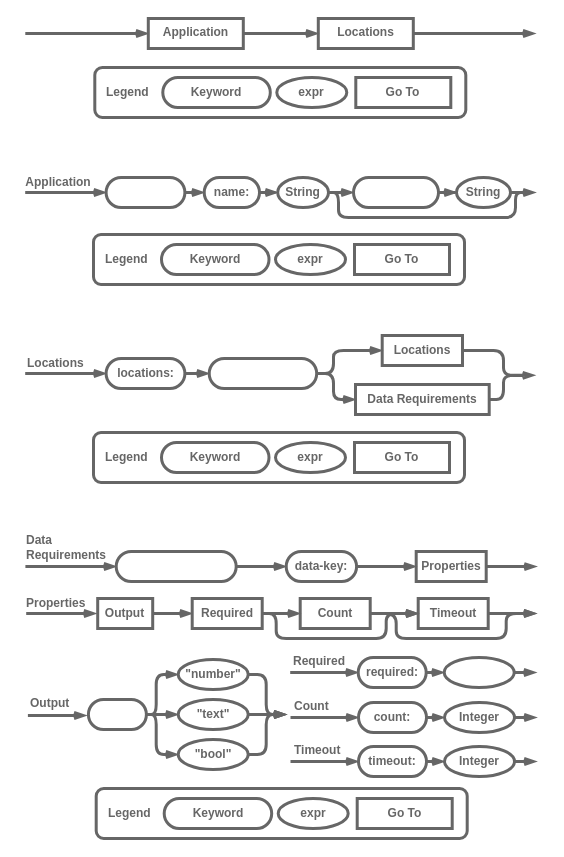
Image size: 564x857. Some labels were removed from this diagram. Each missing label, with the centre of its shape:
application:: pixel 145 192
Boolean: pixel 478 672
data-requirements:: pixel 175 566
description:: pixel 396 192
location-name:: pixel 262 373
output:: pixel 116 714
